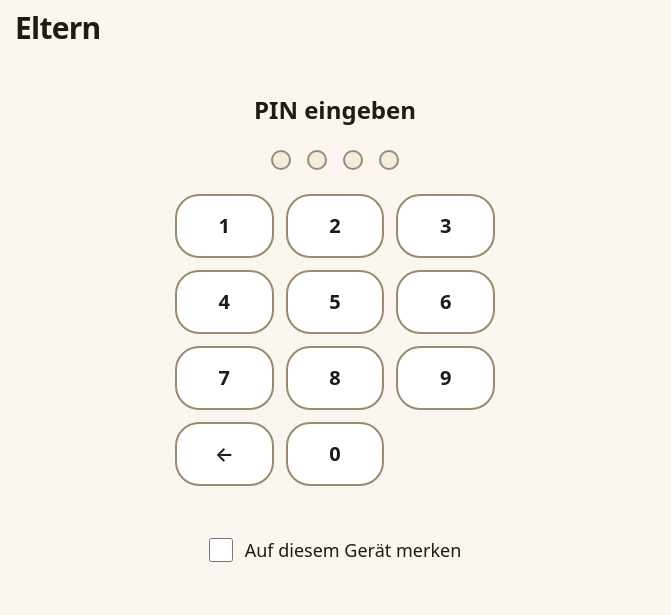
Test: Schloss vor dem Elternbereich › sagt bei der falschen PIN Bescheid und bleibt zu
This screenshot has width=671, height=615.
expect the heading "PIN eingeben" is shown: met, box [254,94,416,126]
Click the button "1".
click(224, 226)  # box [175,194,274,258]
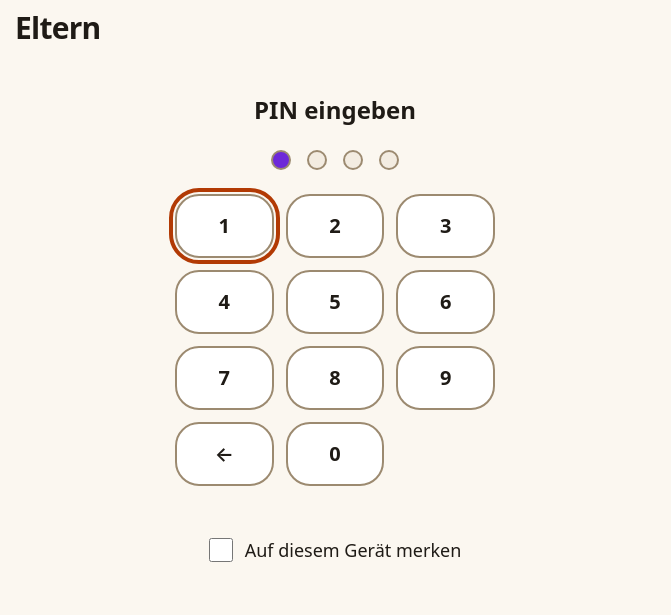
Click the button "1".
click(224, 226)  # box [175,194,274,258]
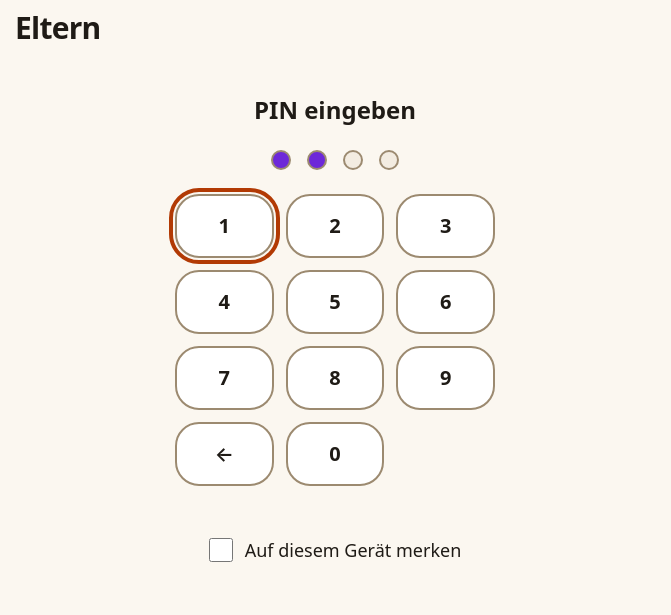
Click the button "1".
click(224, 226)  # box [175,194,274,258]
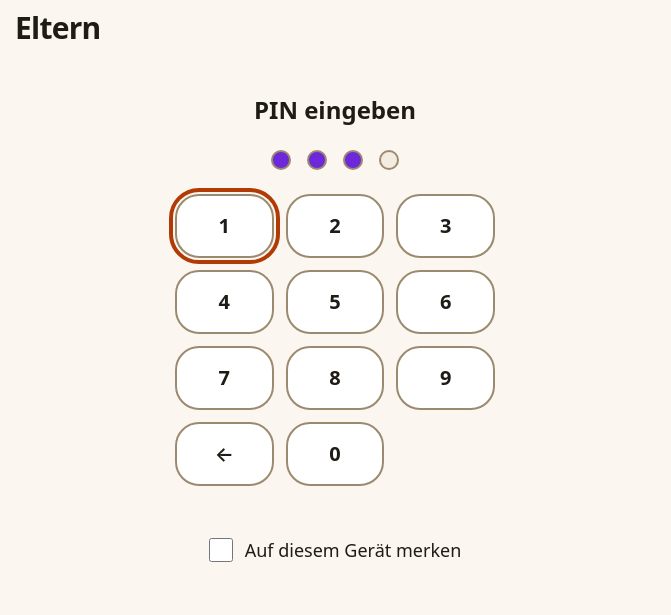
Click the button "1".
click(224, 226)  # box [175,194,274,258]
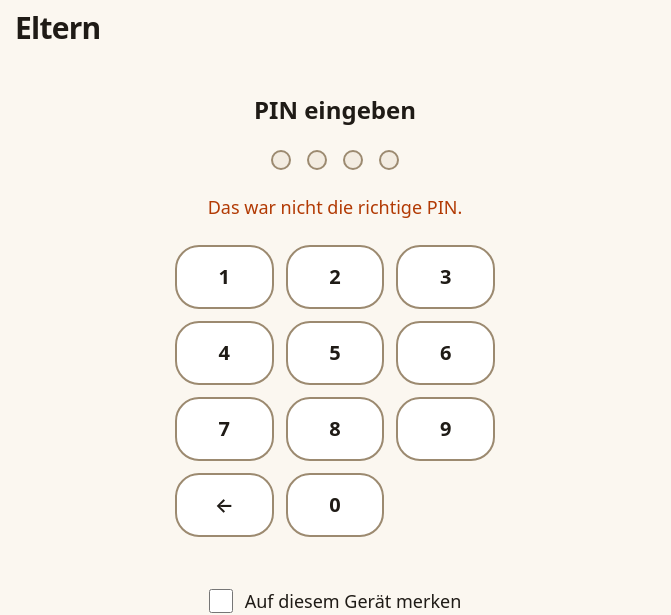
expect the message "Das war nicht die richtige PIN." is shown: met, box [208,194,462,221]
